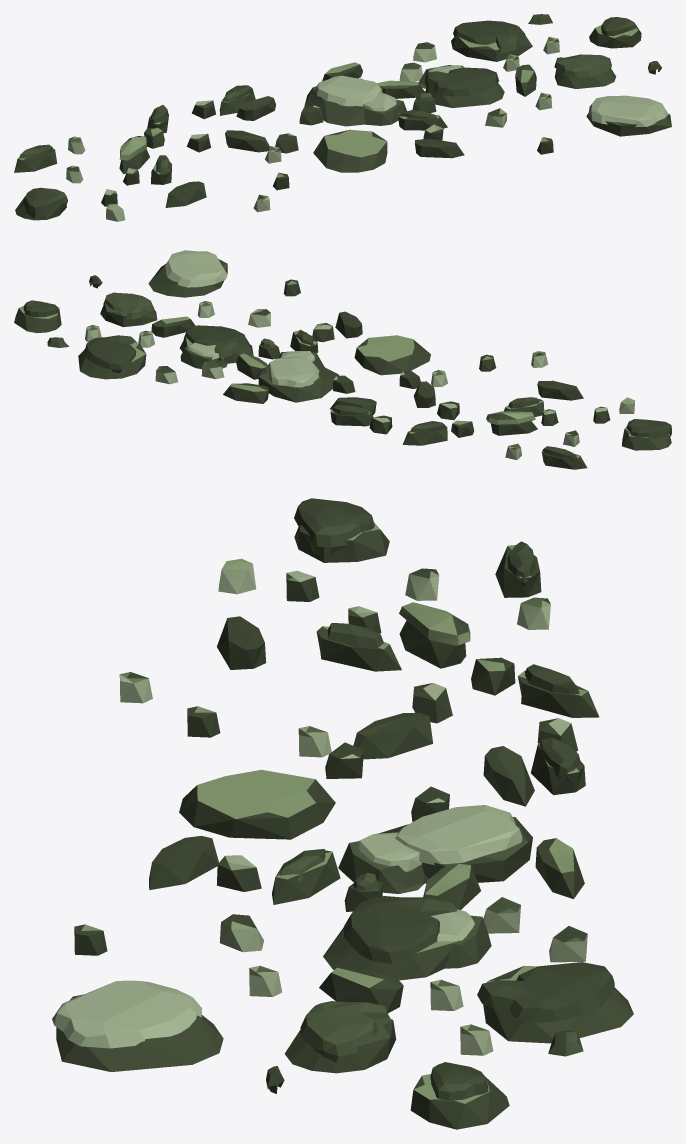
Rendered from EA_Swamp_Stones_Moss_04c.glb.
The picture shows the model from 3 angles, top to bottom: view 1: azimuth 30°, elevation 25°; view 2: azimuth 150°, elevation 25°; view 3: azimuth 270°, elevation 25°; orthographic projection. The views are drawn at different scales.
Parts seen in each view (by area): view 1: EA_Swamp_Stones_Moss_04c; view 2: EA_Swamp_Stones_Moss_04c; view 3: EA_Swamp_Stones_Moss_04c.
Boxes of the visible parts, x1,y1,x2,y2 form: EA_Swamp_Stones_Moss_04c: (14,14,671,221); EA_Swamp_Stones_Moss_04c: (14,250,671,469); EA_Swamp_Stones_Moss_04c: (52,498,633,1129).
Size of the model in its own units: 8.86 by 0.2738 by 3.58.
1 material, 1 textured.
